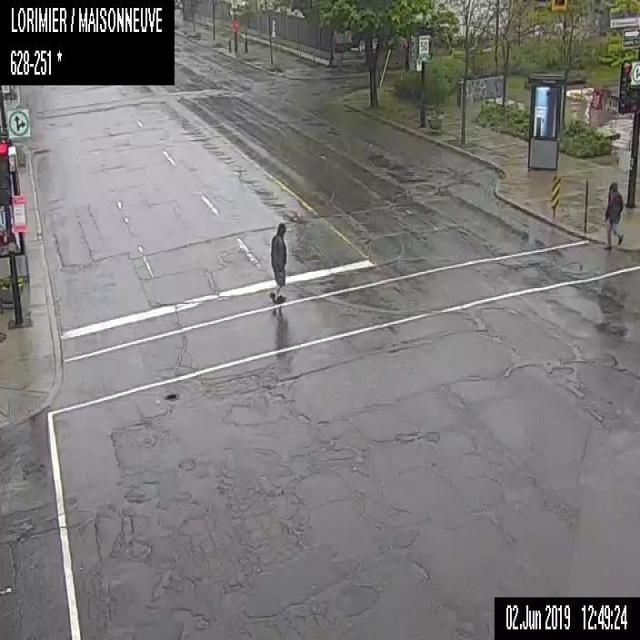pedestrian: (602, 180, 623, 248), (268, 221, 286, 300)
